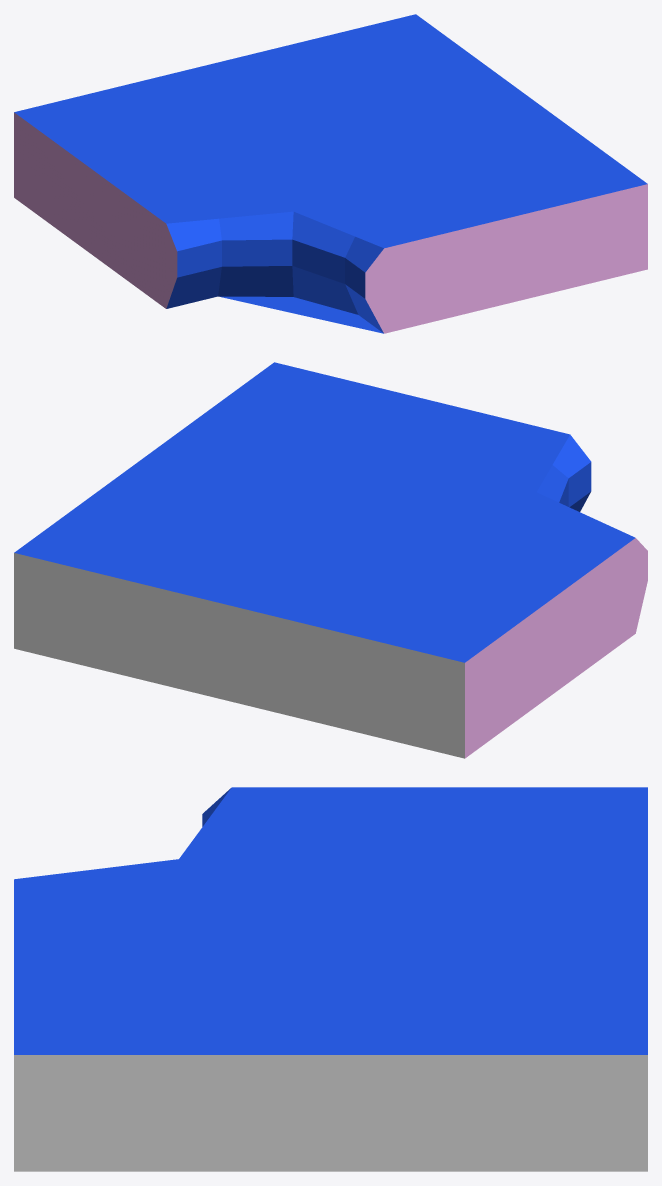
The model's file is Iceberg_Curve_Inner_2x2_1.glb.
3 views of the same model, one above another, from view 1: azimuth 30°, elevation 25°; view 2: azimuth 150°, elevation 25°; view 3: azimuth 270°, elevation 25° (orthographic). The views are drawn at different scales.
Visible parts, largest first — view 1: Iceberg_Curve_Inner_2x2_1; view 2: Iceberg_Curve_Inner_2x2_1; view 3: Iceberg_Curve_Inner_2x2_1.
Part boxes in pixels (box(x1,y1,x2,y2)): Iceberg_Curve_Inner_2x2_1: box(14, 14, 647, 333); Iceberg_Curve_Inner_2x2_1: box(14, 362, 647, 758); Iceberg_Curve_Inner_2x2_1: box(14, 787, 647, 1171).
Bounding box in the file's own units: 200 × 40.62 × 200.
